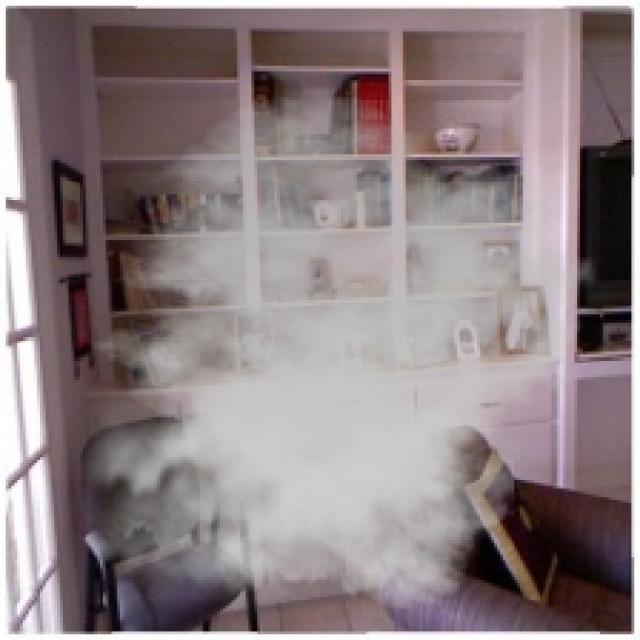Smoke: (57, 94, 597, 626)
